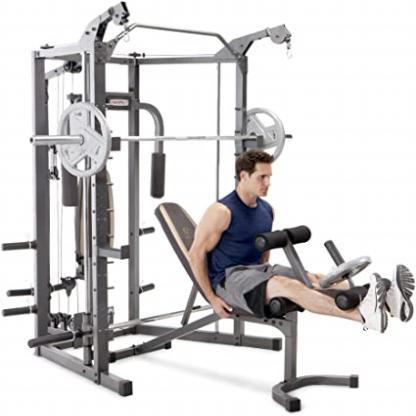smith machine: (3, 1, 256, 399)
